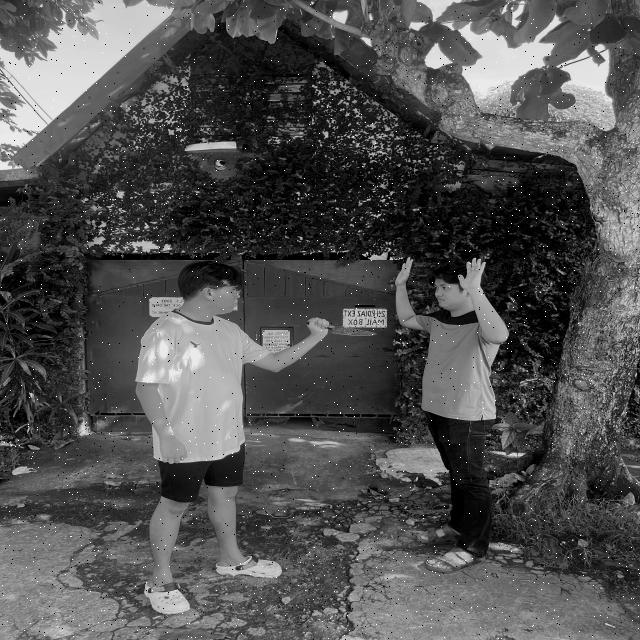knife: (302, 319, 373, 336)
non-violence: (140, 260, 373, 612), (394, 255, 510, 570)
